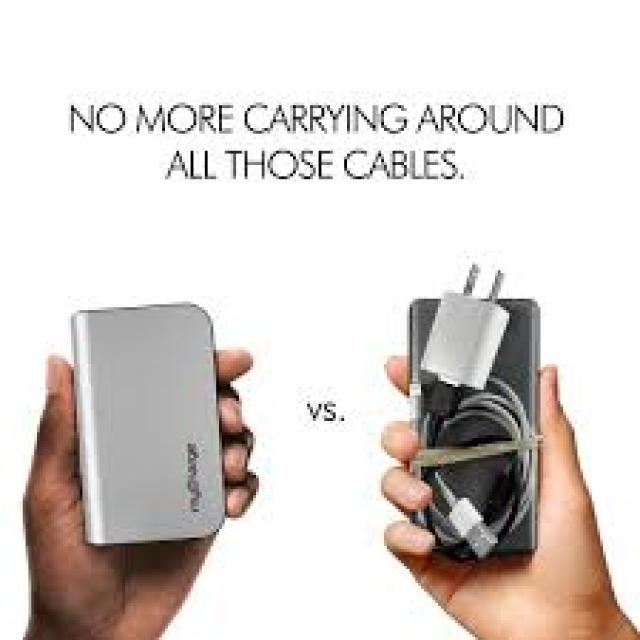portable-charger: (59, 300, 230, 554)
